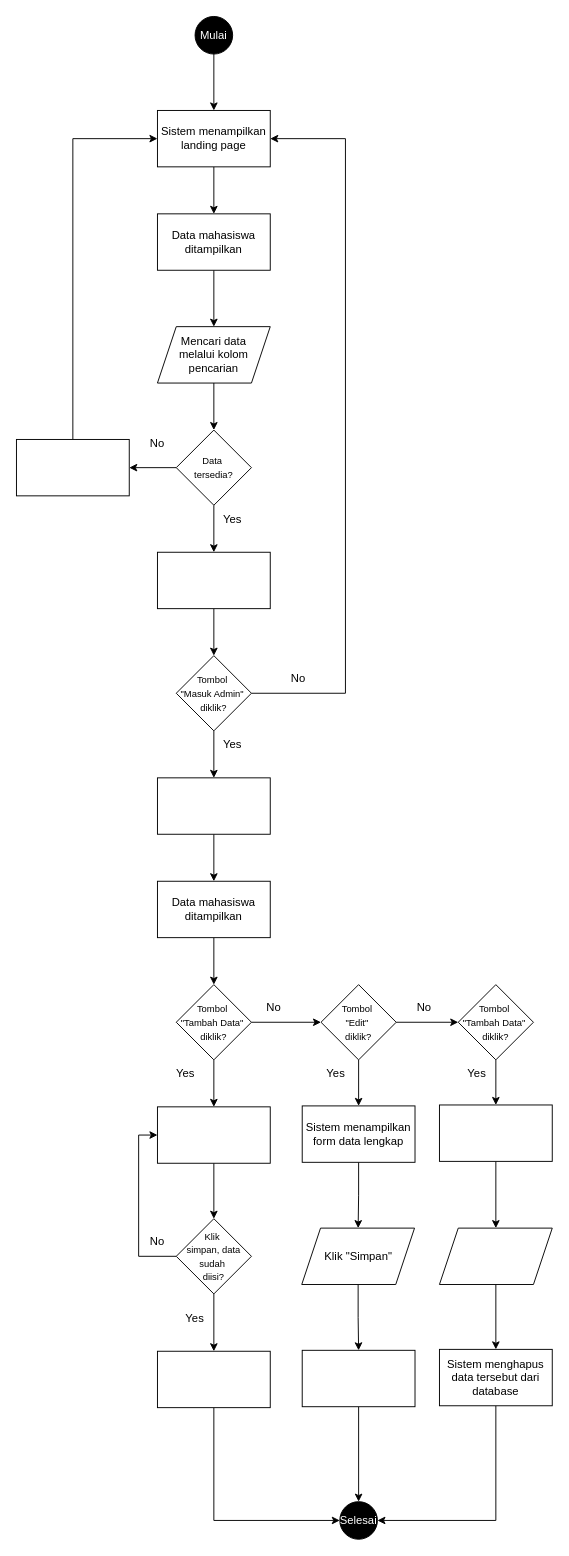
Some shapes in this 569 by 1556 pixel diagram are drawn without their labels. Each missing label, with the centre of its shape:
Data ditampilkan: (x=213, y=580)
Klik "OK": (x=495, y=1256)
Sistem menampilkan form pengisian data baru: (x=213, y=1134)
Sistem menampilkan halaman admin: (x=213, y=805)
Sistem menampilkan pop-up konfirmasi: (x=495, y=1132)
Sistem mencetak: "Data tidak ditemukan.": (x=72, y=467)
Sistem mengupdate data baru ke database: (x=358, y=1378)
Sistem menyimpan data baru ke database: (x=213, y=1379)
